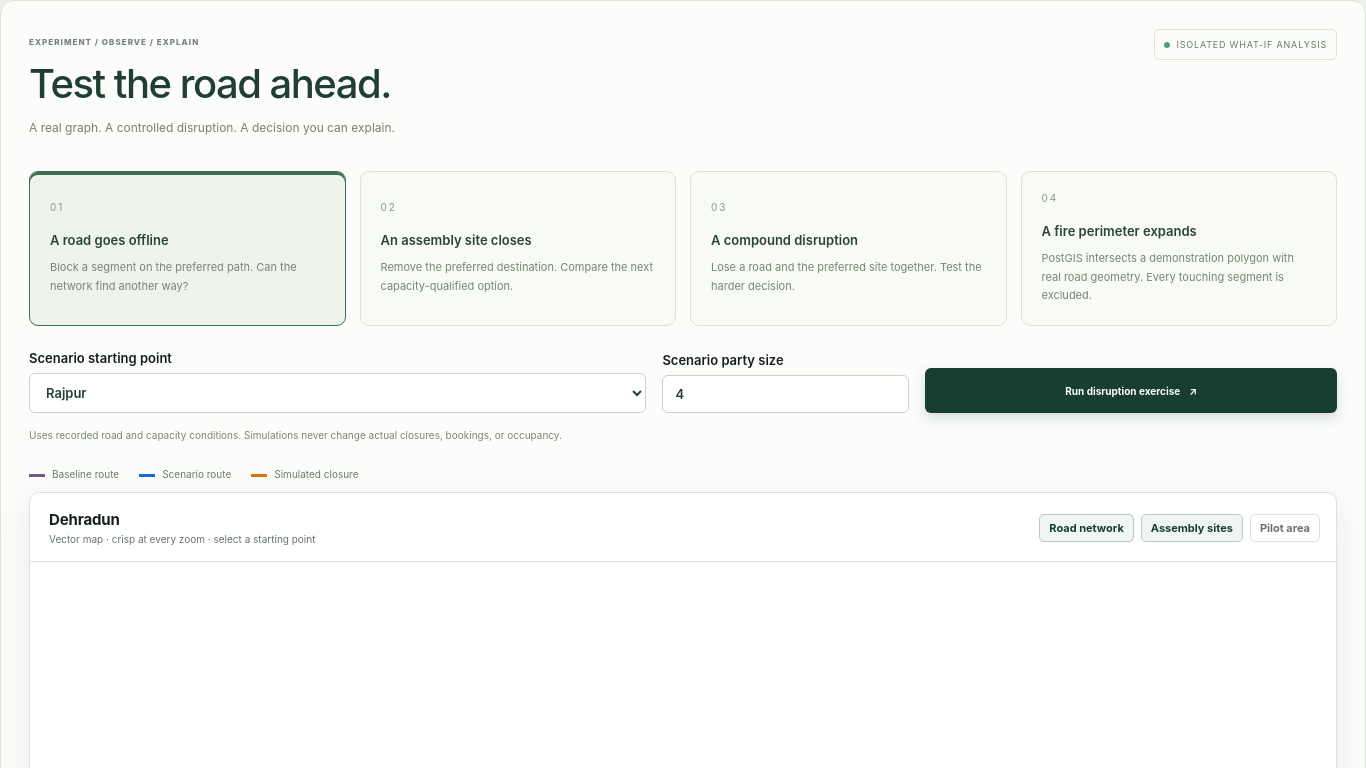
Test: failed comparison reports an error and releases the run control
Click the button "Run disruption exercise ↗": (1131, 391) [925,368,1337,413]
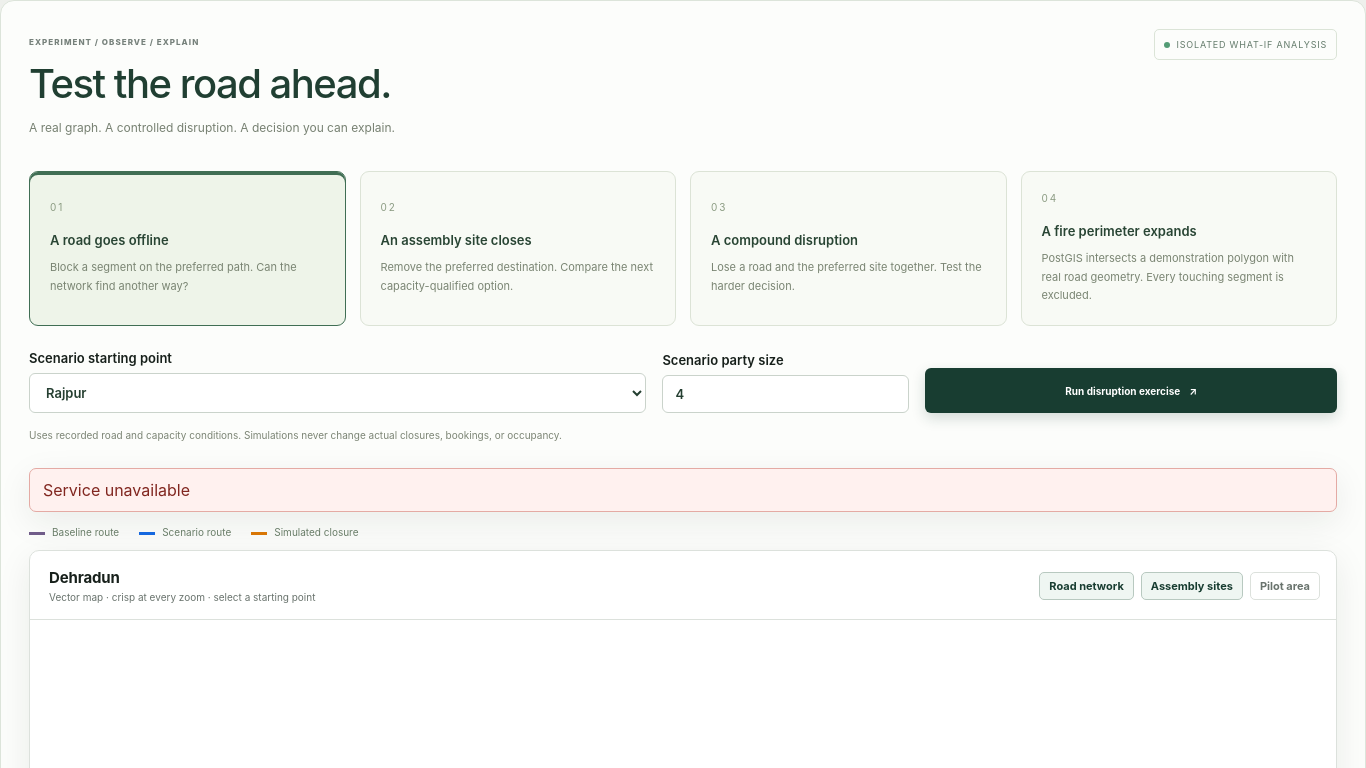
expect the message reads "Service unavailable": met, box [43,480,190,500]
